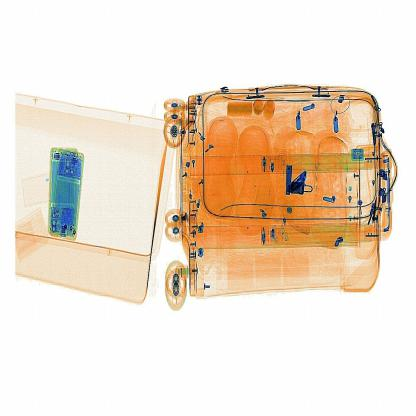knife: (279, 164, 311, 202)
